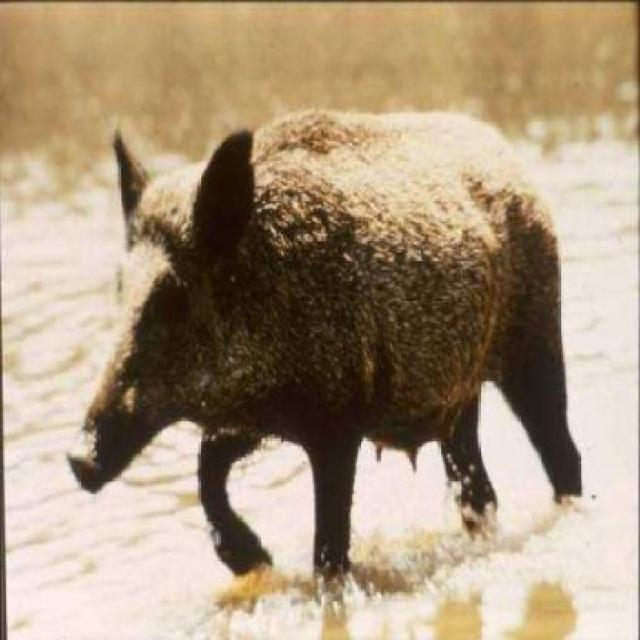Boar: (54, 59, 638, 578)
